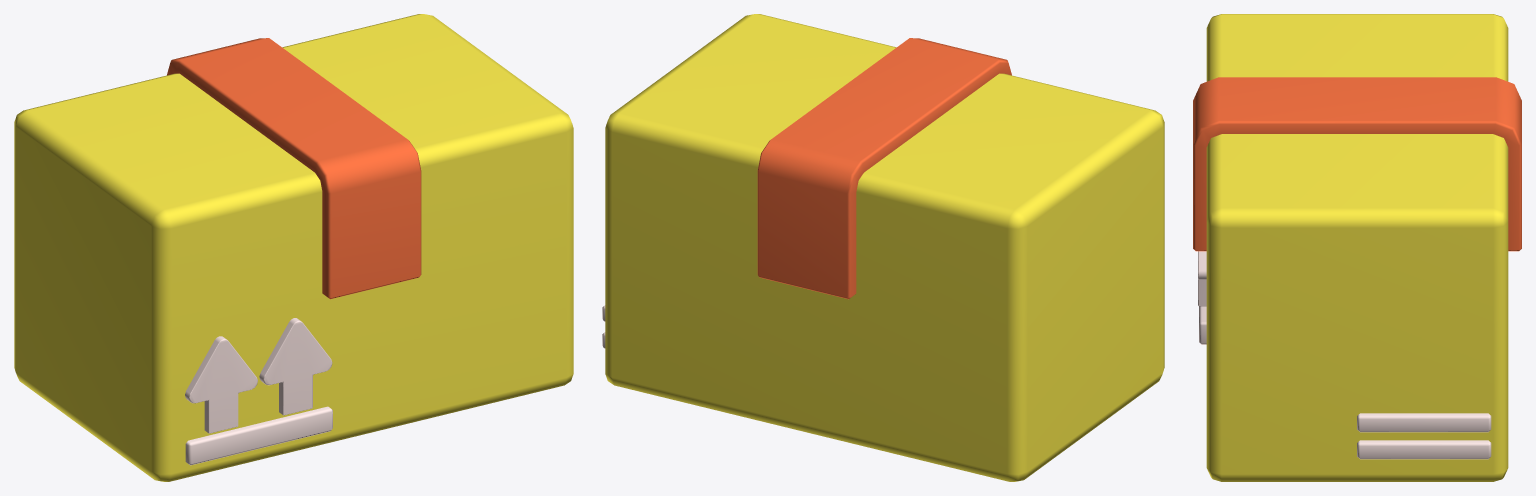
The model's file is City_14_Parcel_5.glb.
The picture shows the model from 3 angles, left to right: view 1: azimuth 30°, elevation 25°; view 2: azimuth 150°, elevation 25°; view 3: azimuth 270°, elevation 25°; orthographic projection.
Parts seen in each view (by area): view 1: City_14_Parcel_5; view 2: City_14_Parcel_5; view 3: City_14_Parcel_5.
Part boxes in pixels (<box>): City_14_Parcel_5: <box>14,14,573,481</box>; City_14_Parcel_5: <box>602,14,1164,481</box>; City_14_Parcel_5: <box>1193,14,1521,481</box>.
Bounding box in the file's own units: 0.793 × 0.5044 × 0.5261.
Materials: 1 (1 with a texture image).
